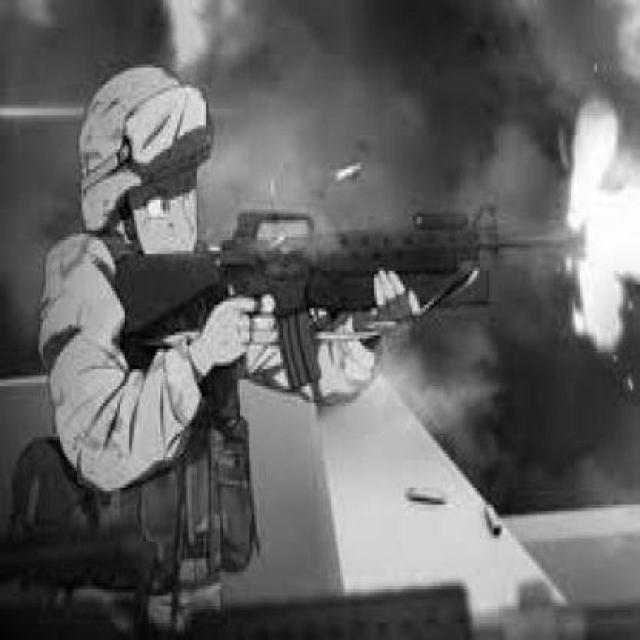weapon: (114, 204, 588, 395)
